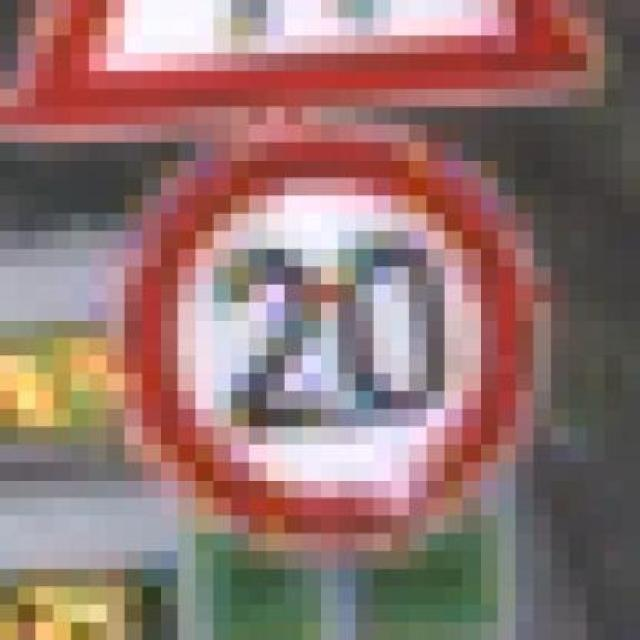forb_speed_over_20: (119, 126, 550, 546)
